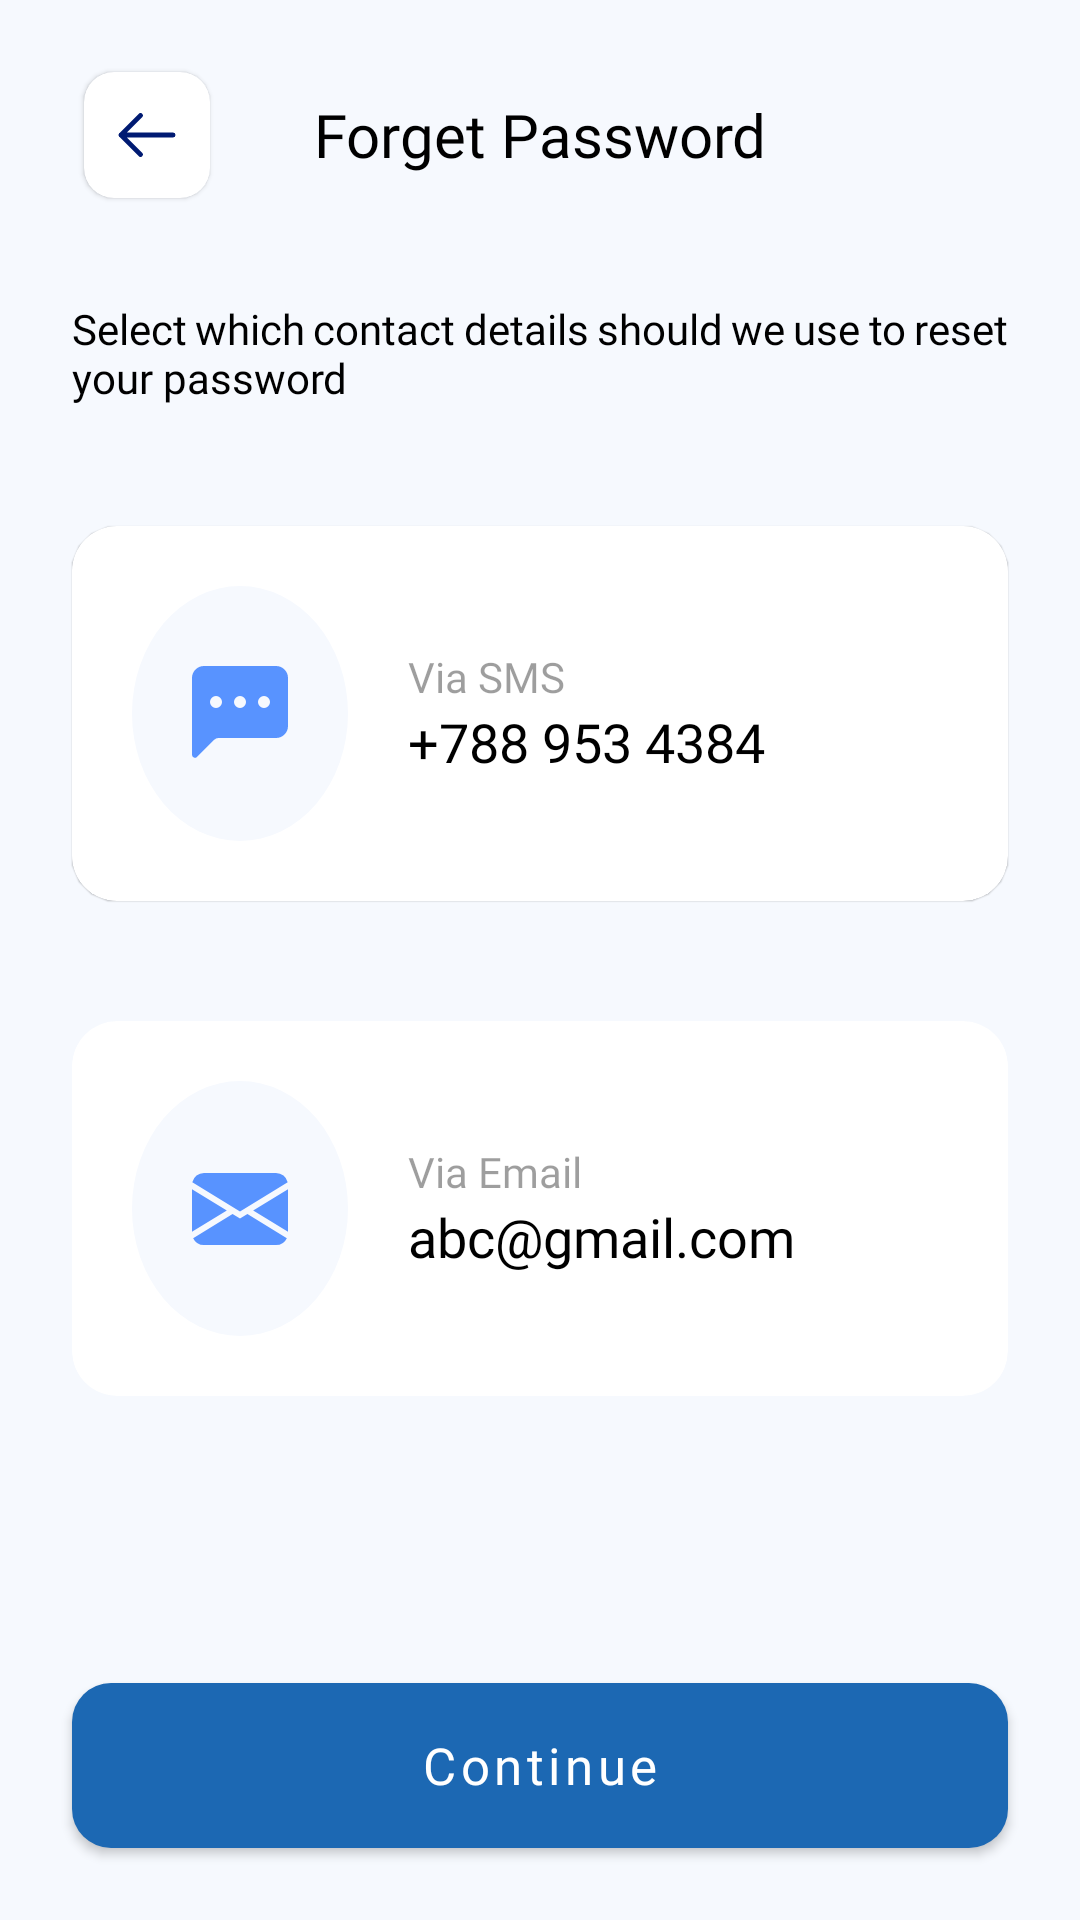

Where to tap for icons on this 1080x1920 app screen, as [x,y]:
arrow left: [147,135]
chat left dots: [240,712]
envelope: [240,1209]
